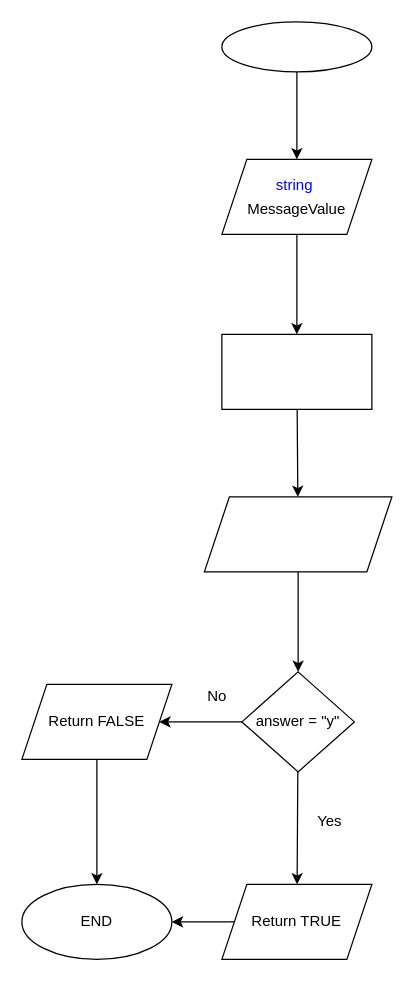
The diagram is 414 pixels wide and 981 high, and some of its shapes have lost their labels. The shapes that lost their labels are listed below. From the top down, each one's centre as x and y in pixels, then its label:
the point at 296,46: START
the point at 296,371: Console.WriteLine ( MessageValue)
the point at 297,534: string answer = Console. ReadLine()
